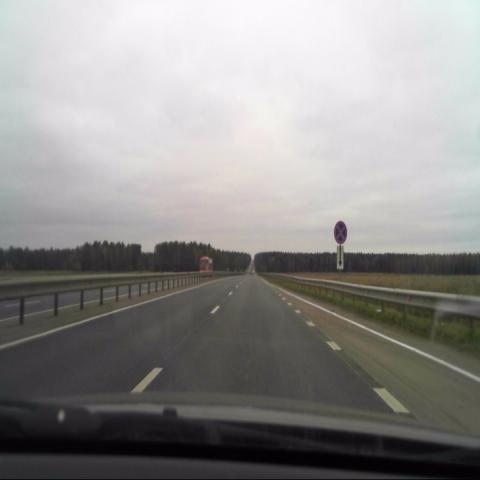3_27: (334, 222, 347, 246)
8_2_3: (336, 245, 344, 271)
